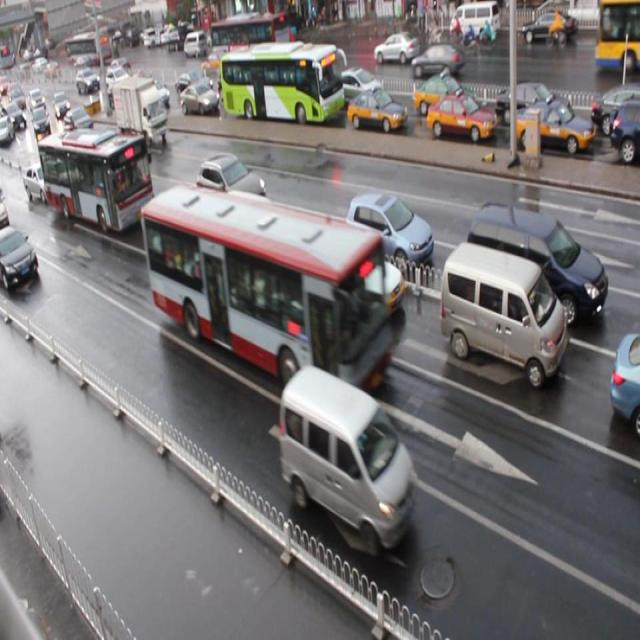bus: (111, 77, 169, 145)
car: (299, 228, 402, 322), (343, 191, 432, 272), (198, 151, 267, 222), (514, 99, 594, 159), (138, 187, 206, 252), (425, 92, 496, 144), (496, 82, 571, 128), (608, 331, 640, 435), (410, 74, 473, 119), (345, 87, 406, 133), (1, 223, 39, 291), (332, 64, 388, 109), (588, 90, 640, 135), (608, 99, 640, 160), (21, 158, 60, 203), (181, 81, 220, 115), (217, 69, 250, 104), (175, 71, 211, 97), (139, 81, 170, 110), (65, 107, 94, 136), (106, 81, 132, 110), (130, 70, 157, 94)
truck: (279, 363, 417, 559), (438, 240, 566, 388), (465, 200, 607, 332), (214, 187, 289, 281)
van: (141, 182, 395, 408), (37, 126, 154, 235), (216, 42, 339, 125)
